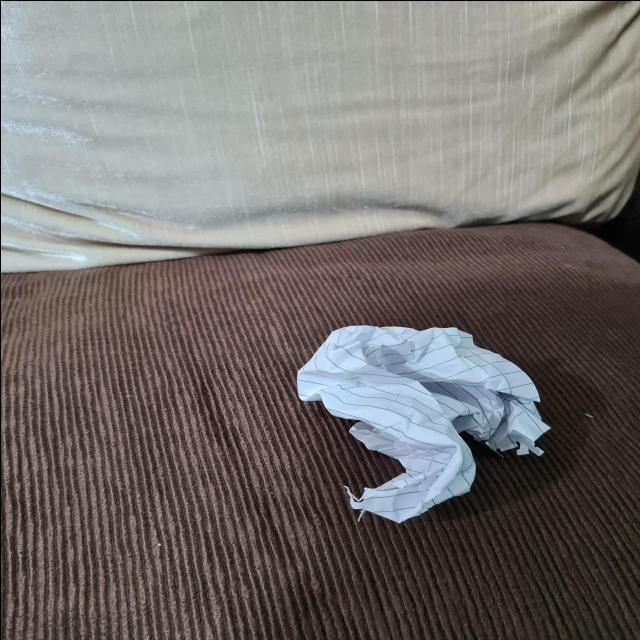kertas: (294, 318, 554, 522)
